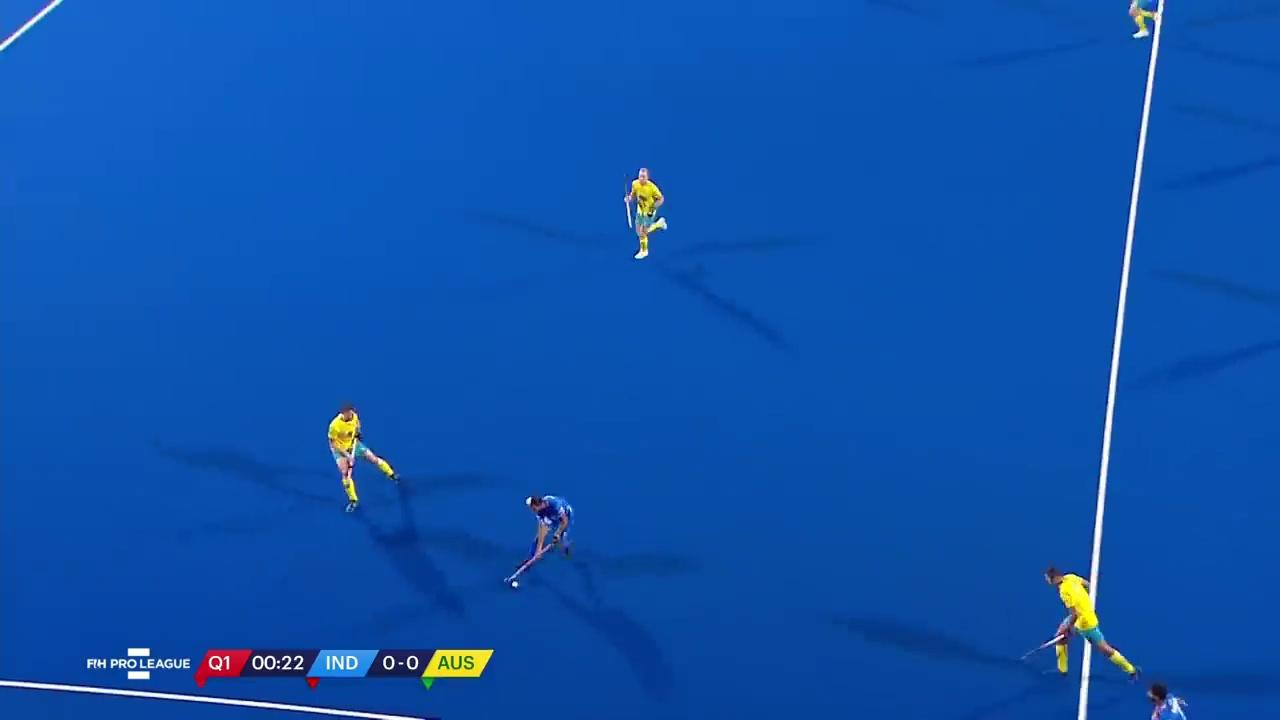ball: (508, 575, 523, 595)
